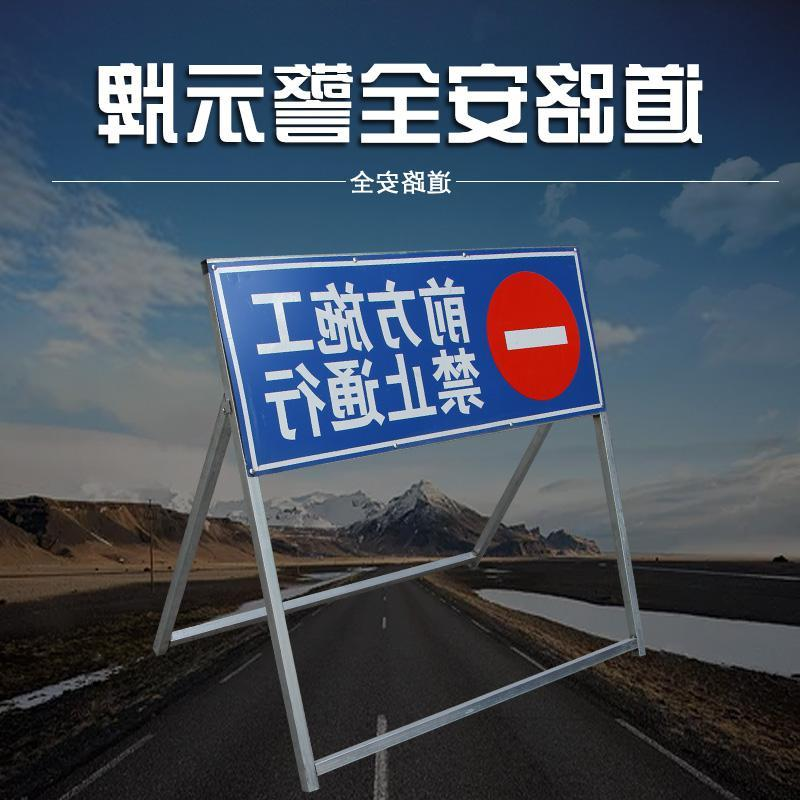sign: (202, 243, 614, 481)
